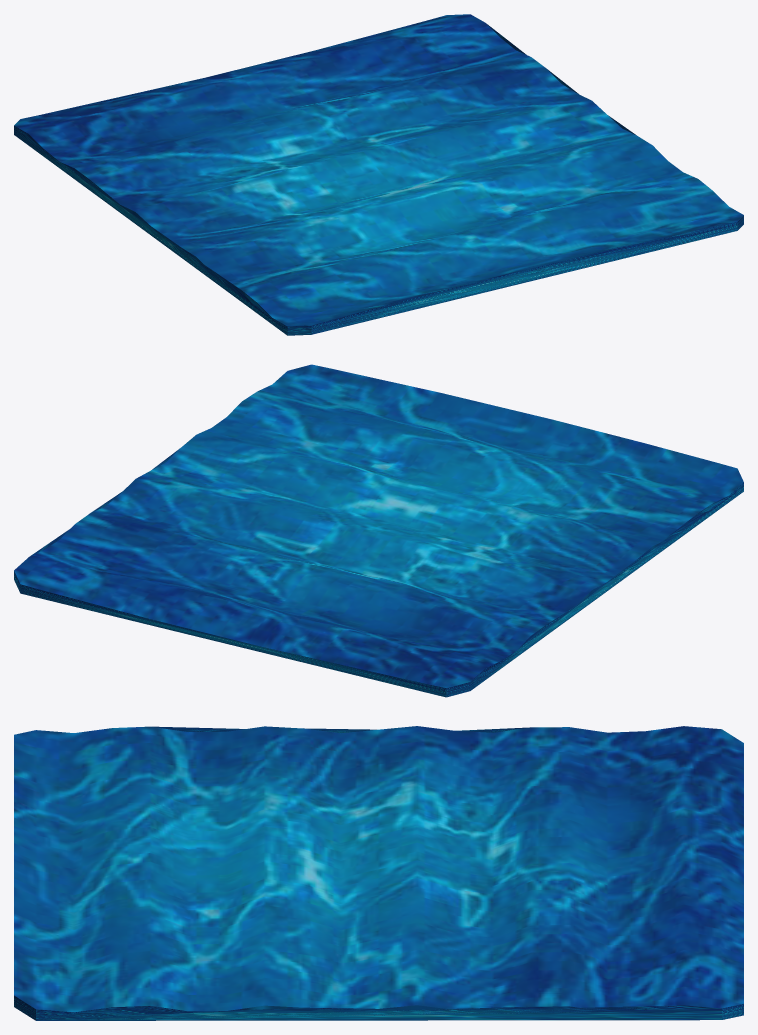
File: water_obj.obj
3 renders of one model, top to bottom at view 1: azimuth 30°, elevation 25°; view 2: azimuth 150°, elevation 25°; view 3: azimuth 270°, elevation 25°, orthographic. The views are drawn at different scales.
Visible parts, largest first — view 1: water_1; view 2: water_1; view 3: water_1.
Boxes of the visible parts, x1,y1,x2,y2 form: water_1: (14,14,743,335); water_1: (14,364,743,697); water_1: (14,726,743,1020).
Size of the model in its own units: 257 by 10.89 by 283.
Materials: 1 (1 with a texture image).
